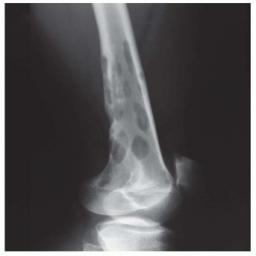cancer: (85, 31, 157, 194)
